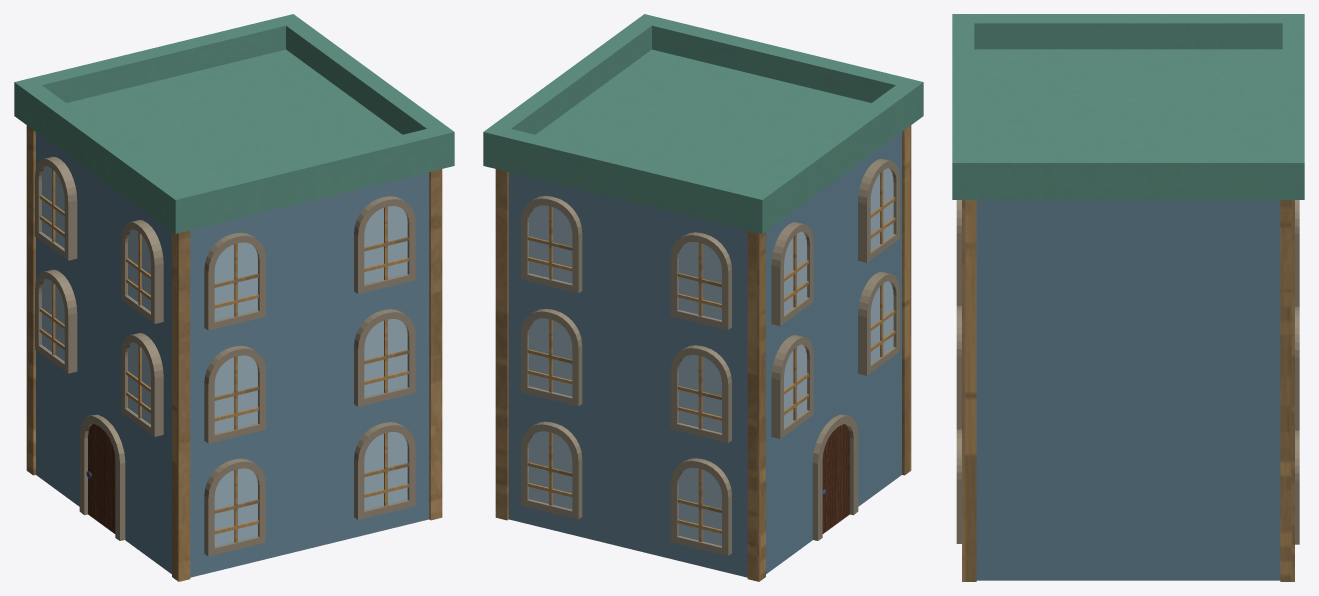
The model's file is Buildingg-003.glb.
3 renders of one model, left to right at view 1: azimuth 30°, elevation 25°; view 2: azimuth 150°, elevation 25°; view 3: azimuth 270°, elevation 25°, orthographic. The views are drawn at different scales.
Visible parts, largest first — view 1: building-003; view 2: building-003; view 3: building-003.
Boxes of the visible parts, <box> form: building-003: <box>14,14,454,581</box>; building-003: <box>483,14,923,581</box>; building-003: <box>952,14,1304,581</box>.
Bounding box in the file's own units: 2.65 × 3.51 × 2.65.
1 material, 1 textured.
